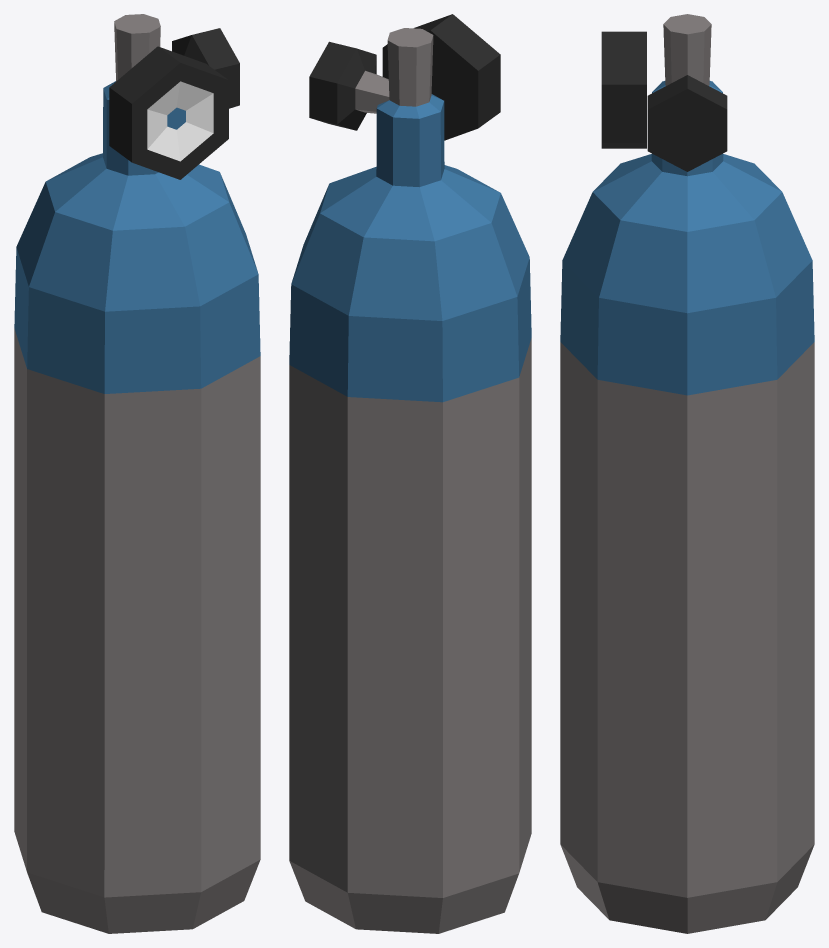
File: resources_oxygen-cylinder.fbx
The picture shows the model from 3 angles, left to right: view 1: azimuth 30°, elevation 25°; view 2: azimuth 150°, elevation 25°; view 3: azimuth 270°, elevation 25°; orthographic projection.
Parts seen in each view (by area): view 1: resources_oxygen_cylinder; view 2: resources_oxygen_cylinder; view 3: resources_oxygen_cylinder.
Boxes of the visible parts, x1=… form: resources_oxygen_cylinder: x1=14, y1=14, x2=260, y2=933; resources_oxygen_cylinder: x1=289, y1=14, x2=531, y2=933; resources_oxygen_cylinder: x1=560, y1=14, x2=814, y2=933.
Size of the model in its own units: 53.44 by 200 by 53.44.
